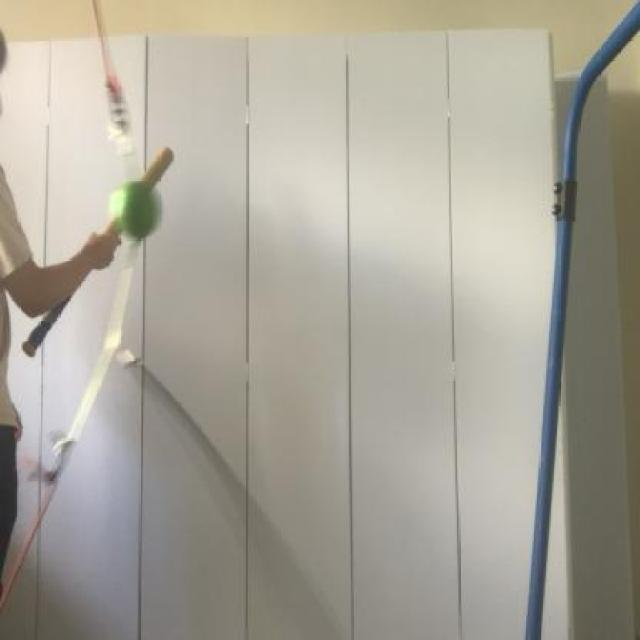baseball: (96, 170, 176, 261)
